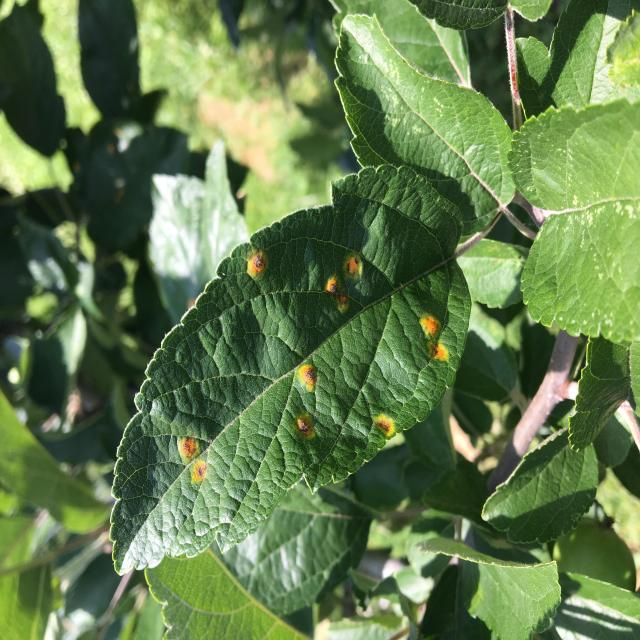Rust: (316, 234, 364, 324), (172, 415, 212, 497), (416, 301, 457, 378), (278, 356, 338, 395), (240, 233, 272, 290), (276, 411, 318, 449), (372, 405, 404, 445)
